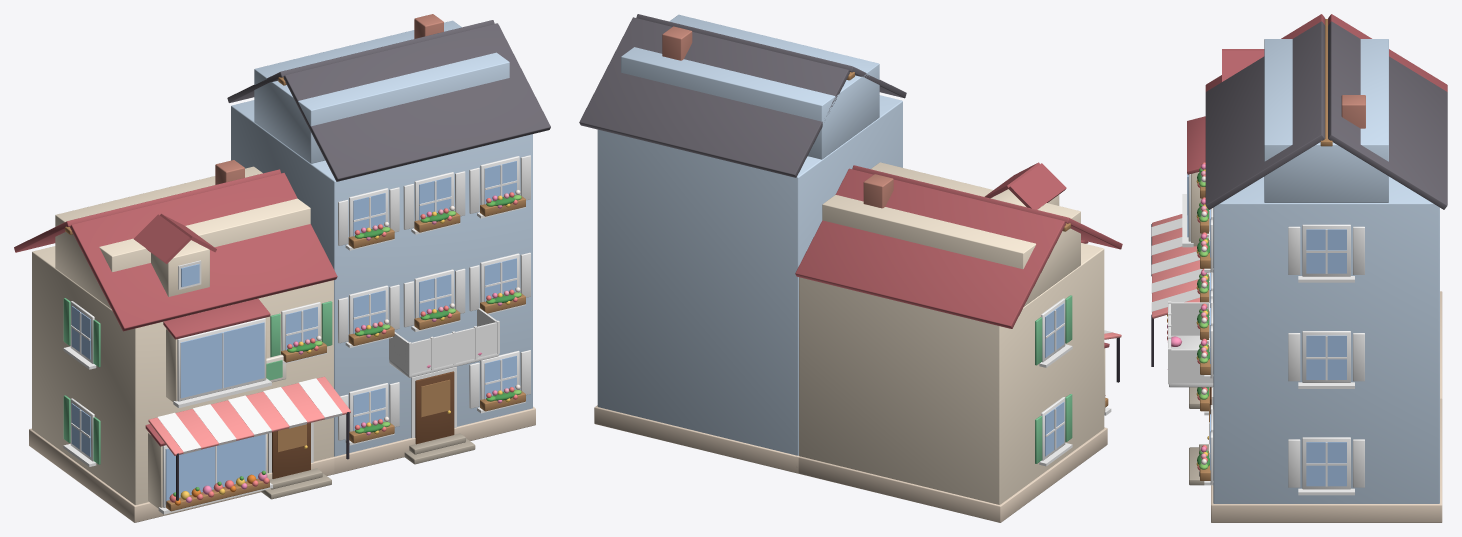
Rendered from terrace_short_b.glb.
3 views of the same model, side by side, from view 1: azimuth 30°, elevation 25°; view 2: azimuth 150°, elevation 25°; view 3: azimuth 270°, elevation 25° (orthographic). The views are drawn at different scales.
Visible parts, largest first — view 1: terrace_short_b; view 2: terrace_short_b; view 3: terrace_short_b.
Part boxes in pixels (x1,y1,x2,y2): terrace_short_b: [14, 14, 550, 522]; terrace_short_b: [579, 14, 1122, 522]; terrace_short_b: [1151, 14, 1447, 522].
Bounding box in the file's own units: 13.4 × 10.95 × 7.32.
